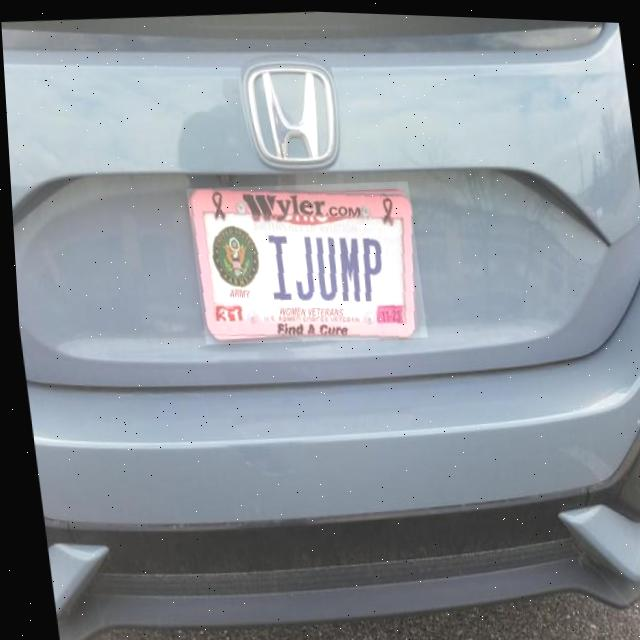LicensePlate: (188, 187, 411, 335)
